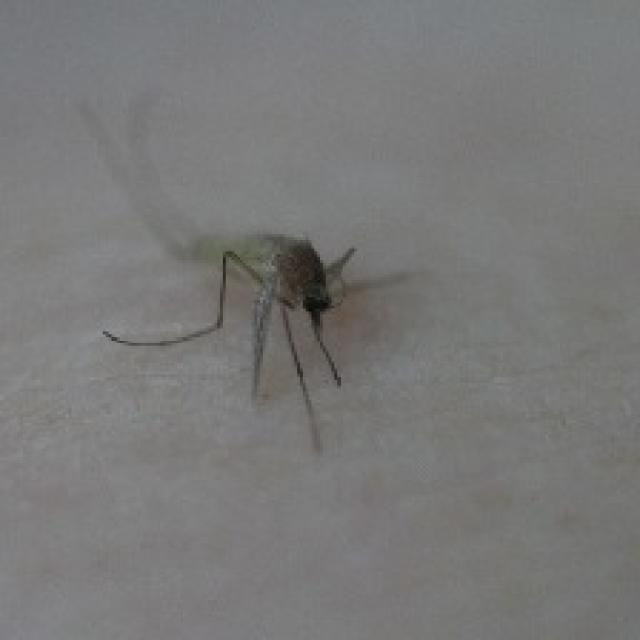culex: (81, 95, 445, 482)
